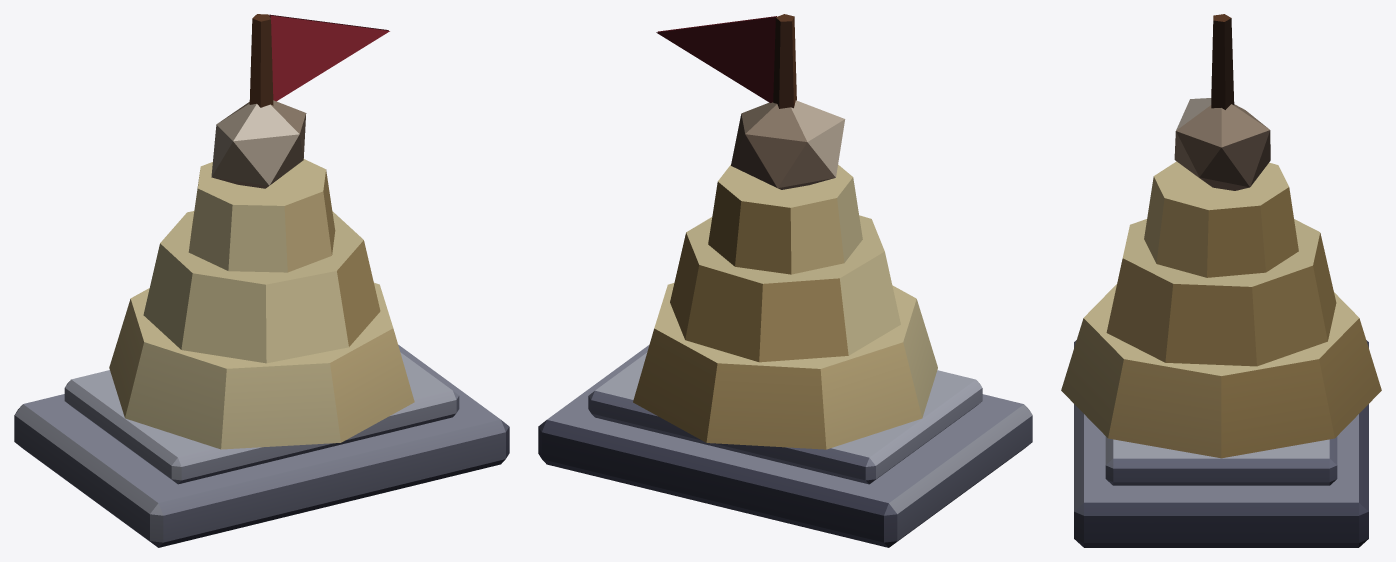
The model's file is gym_top_ground.glb.
The picture shows the model from 3 angles, left to right: view 1: azimuth 30°, elevation 25°; view 2: azimuth 150°, elevation 25°; view 3: azimuth 270°, elevation 25°; orthographic projection.
Parts seen in each view (by area): view 1: gym_top_ground; view 2: gym_top_ground; view 3: gym_top_ground.
Part boxes in pixels (left/top/right/bottom): gym_top_ground: left=14, top=14, right=509, bottom=547; gym_top_ground: left=538, top=14, right=1032, bottom=547; gym_top_ground: left=1061, top=14, right=1381, bottom=547.
Bounding box in the file's own units: 0.84 × 0.98 × 0.64.
